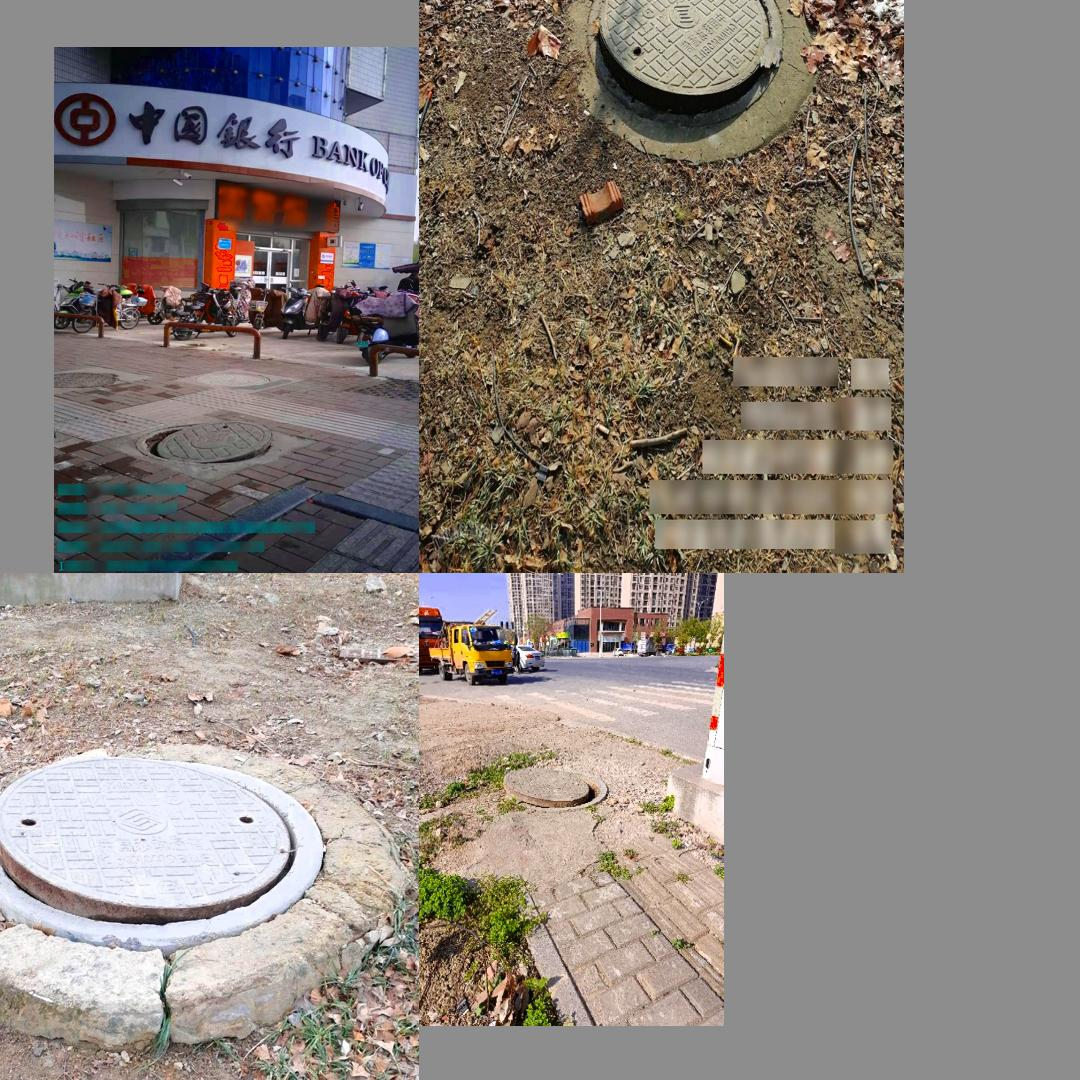good: (196, 372, 270, 390), (56, 371, 120, 386)
uncovered: (0, 755, 322, 946), (588, 0, 786, 110), (133, 417, 277, 463), (502, 768, 608, 809)
